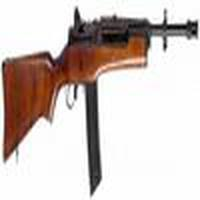gun: (3, 12, 200, 161)
